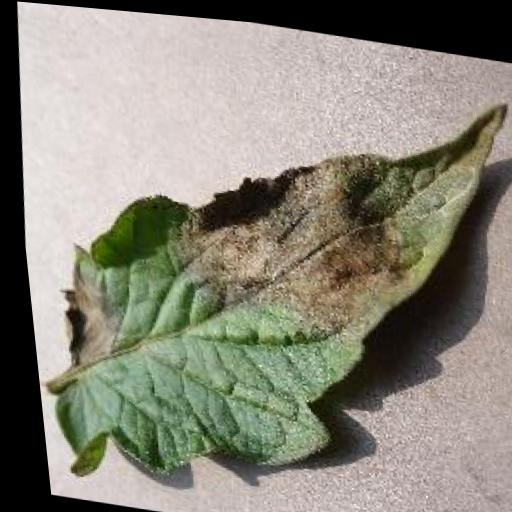Late Blight: (5, 25, 512, 512)
